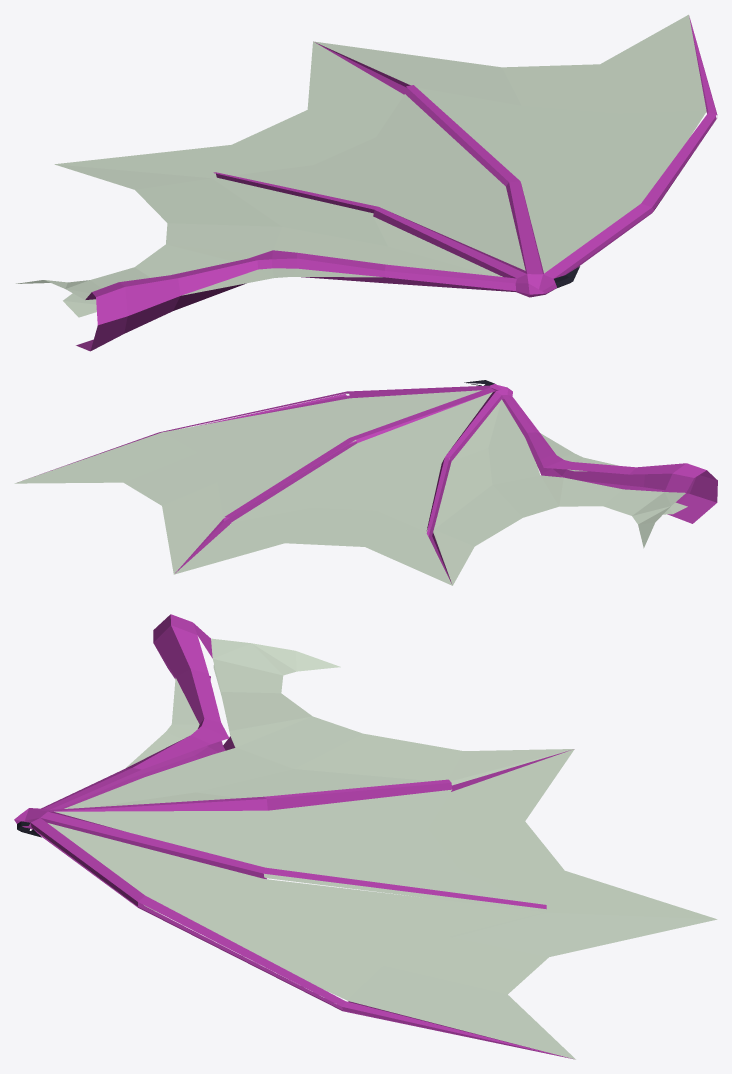
Rendered from wing.obj.
3 renders of one model, top to bottom at view 1: azimuth 30°, elevation 25°; view 2: azimuth 150°, elevation 25°; view 3: azimuth 270°, elevation 25°, orthographic. The views are drawn at different scales.
Parts seen in each view (by area): view 1: Cylinder; view 2: Cylinder; view 3: Cylinder.
Boxes of the visible parts, x1=… form: Cylinder: x1=16, y1=14, x2=717, y2=351; Cylinder: x1=14, y1=380, x2=717, y2=585; Cylinder: x1=14, y1=614, x2=717, y2=1059.
Bounding box in the file's own units: 43.75 × 3.72 × 33.52.
Materials: 1 (1 with a texture image).
